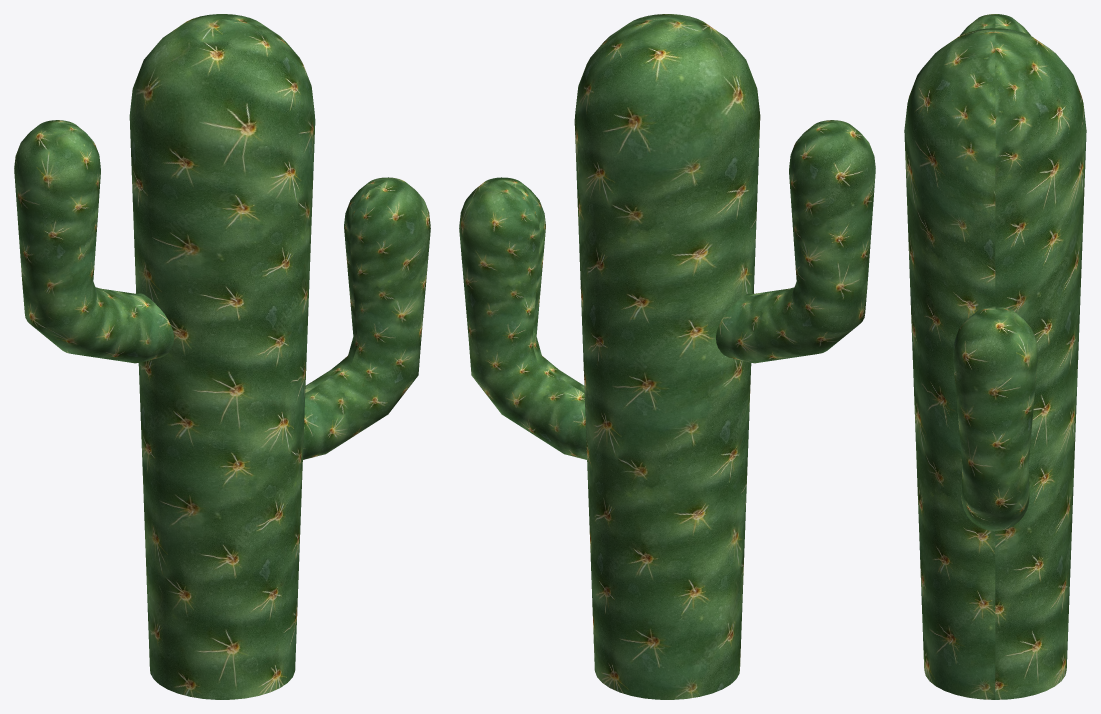
File: kaktus.obj
The picture shows the model from 3 angles, left to right: view 1: azimuth 30°, elevation 25°; view 2: azimuth 150°, elevation 25°; view 3: azimuth 270°, elevation 25°; orthographic projection. The views are drawn at different scales.
Parts seen in each view (by area): view 1: Kaktus-main, kaktus-secondarm, kaktus-firstarm; view 2: Kaktus-main, kaktus-secondarm, kaktus-firstarm; view 3: Kaktus-main, kaktus-firstarm, kaktus-secondarm.
Part boxes in pixels (x1=…): Kaktus-main: x1=129, y1=14, x2=315, y2=699; kaktus-secondarm: x1=14, y1=120, x2=173, y2=363; kaktus-firstarm: x1=303, y1=177, x2=430, y2=459; Kaktus-main: x1=574, y1=14, x2=760, y2=699; kaktus-secondarm: x1=716, y1=120, x2=875, y2=363; kaktus-firstarm: x1=459, y1=177, x2=586, y2=459; Kaktus-main: x1=904, y1=28, x2=1086, y2=699; kaktus-firstarm: x1=953, y1=306, x2=1037, y2=530; kaktus-secondarm: x1=960, y1=14, x2=1030, y2=35.
Size of the model in its own units: 2.3 by 3.53 by 0.9154.
